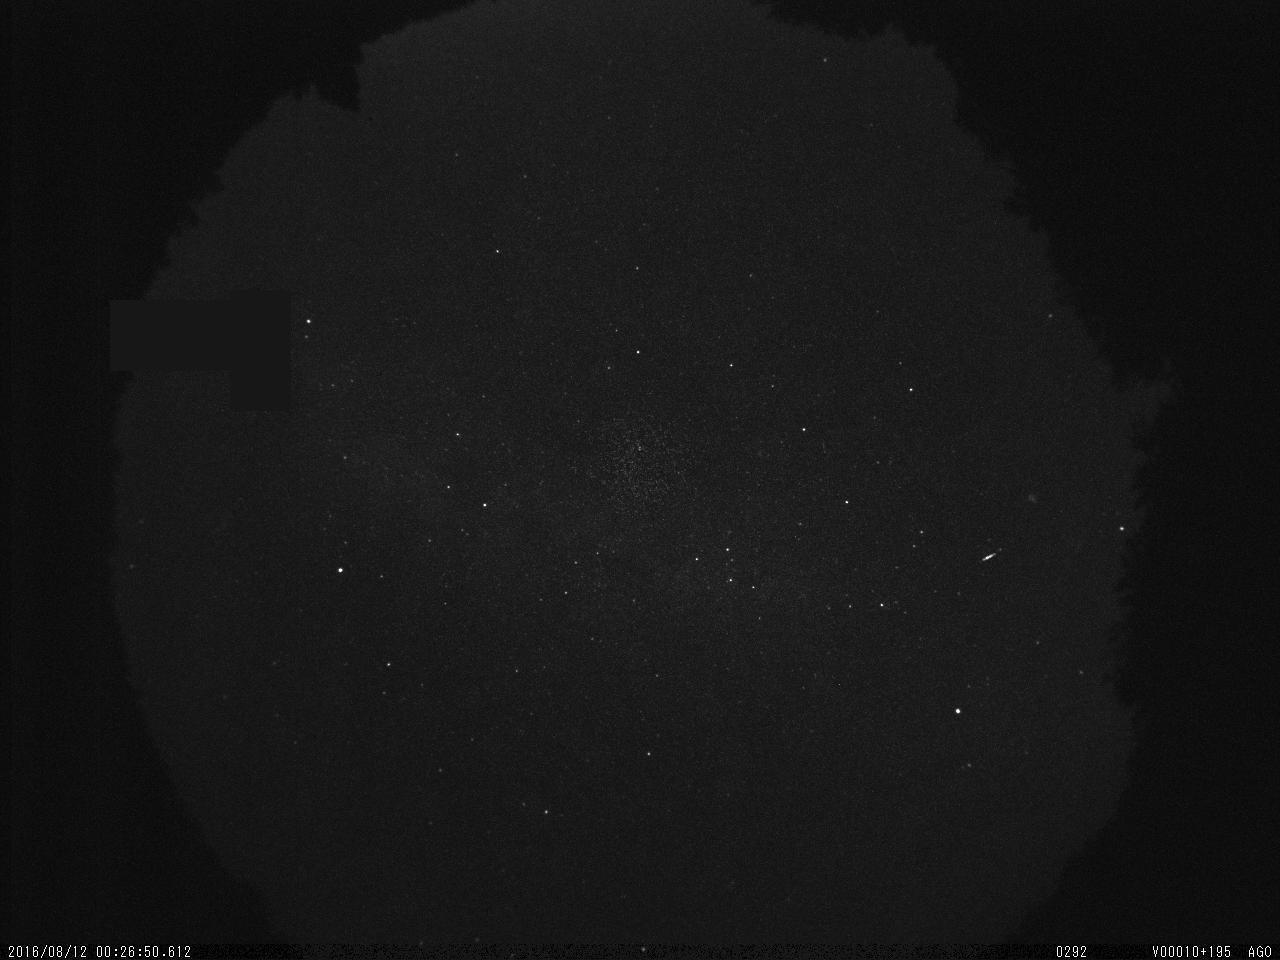Meteor: (978, 549, 1001, 565)
